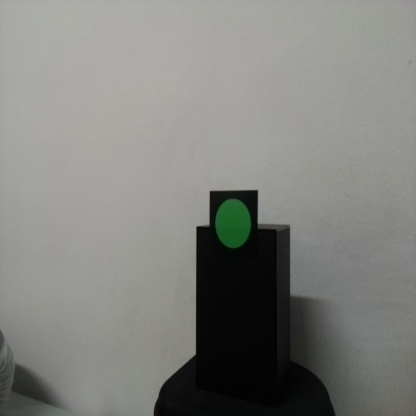id_5: (210, 191, 258, 261)
